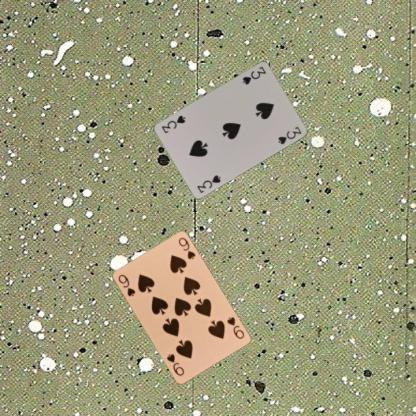3s: (194, 172, 222, 194), (240, 64, 267, 86)
9s: (224, 314, 246, 340), (115, 272, 136, 298)
